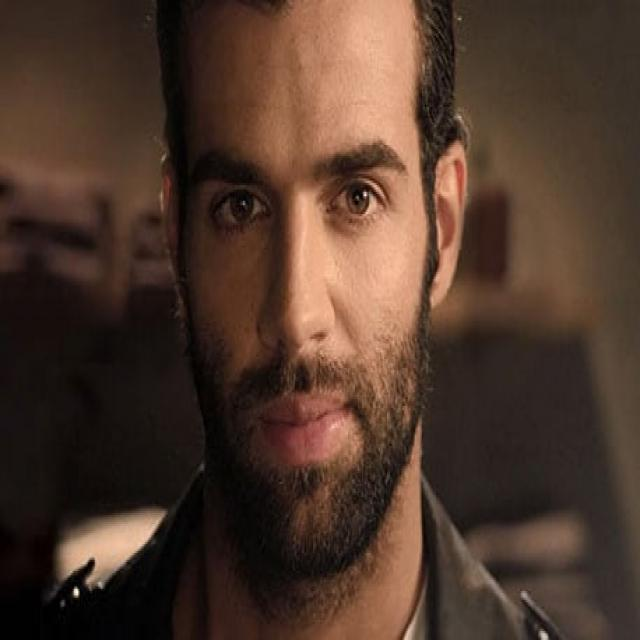beard: (191, 337, 422, 593)
hair: (415, 0, 471, 204), (157, 0, 205, 197)
